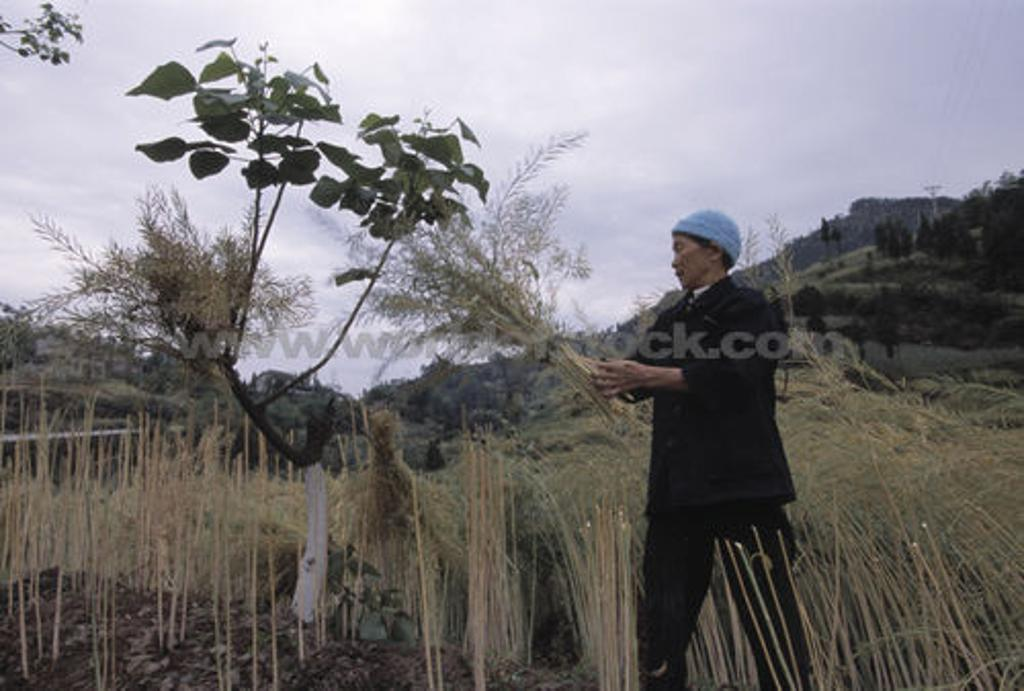face: (671, 234, 709, 288)
